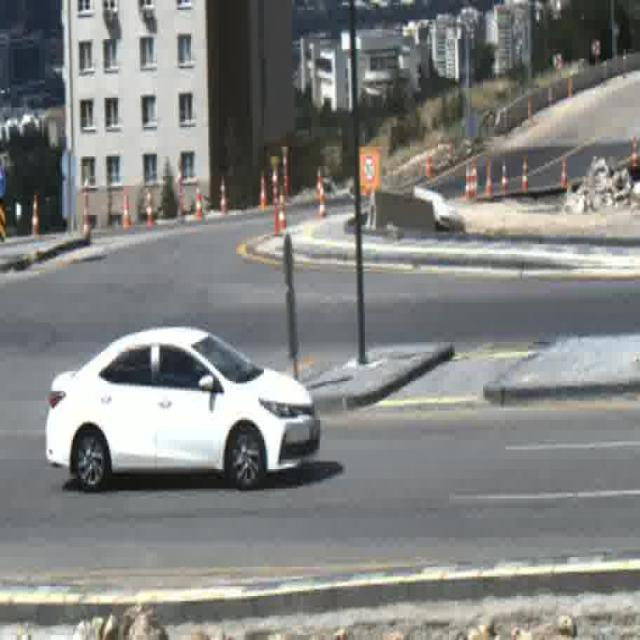Car: (46, 326, 320, 494)
